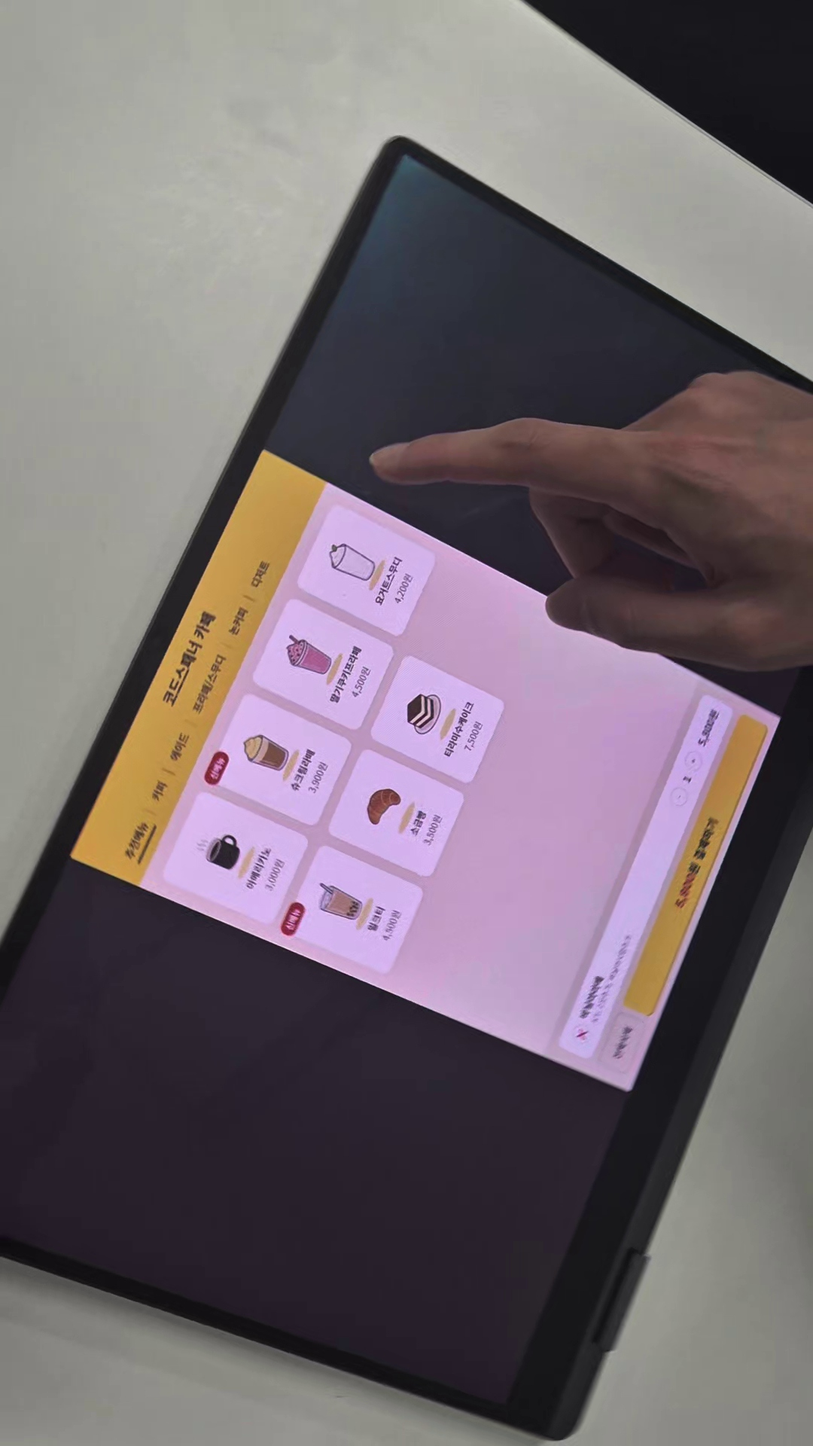action_button: (624, 709, 771, 1017), (598, 1012, 648, 1076)
cart_item: (554, 693, 736, 1061)
category_tab: (187, 647, 233, 720), (220, 600, 261, 645), (121, 812, 154, 864), (164, 723, 195, 771), (248, 553, 275, 594), (143, 776, 173, 808)
menu_back: (249, 596, 397, 733), (203, 692, 353, 827), (162, 790, 311, 924), (297, 504, 442, 640), (284, 843, 428, 979), (326, 744, 471, 879), (369, 654, 511, 788)
menu_name: (325, 640, 365, 709), (441, 694, 478, 765), (240, 843, 273, 899), (371, 553, 404, 609), (285, 743, 318, 799), (402, 807, 430, 840), (364, 903, 389, 939)
menu_price: (304, 754, 335, 805), (346, 661, 376, 712), (419, 805, 449, 856), (380, 903, 410, 954), (460, 717, 490, 768), (390, 567, 420, 618), (262, 855, 288, 899)
